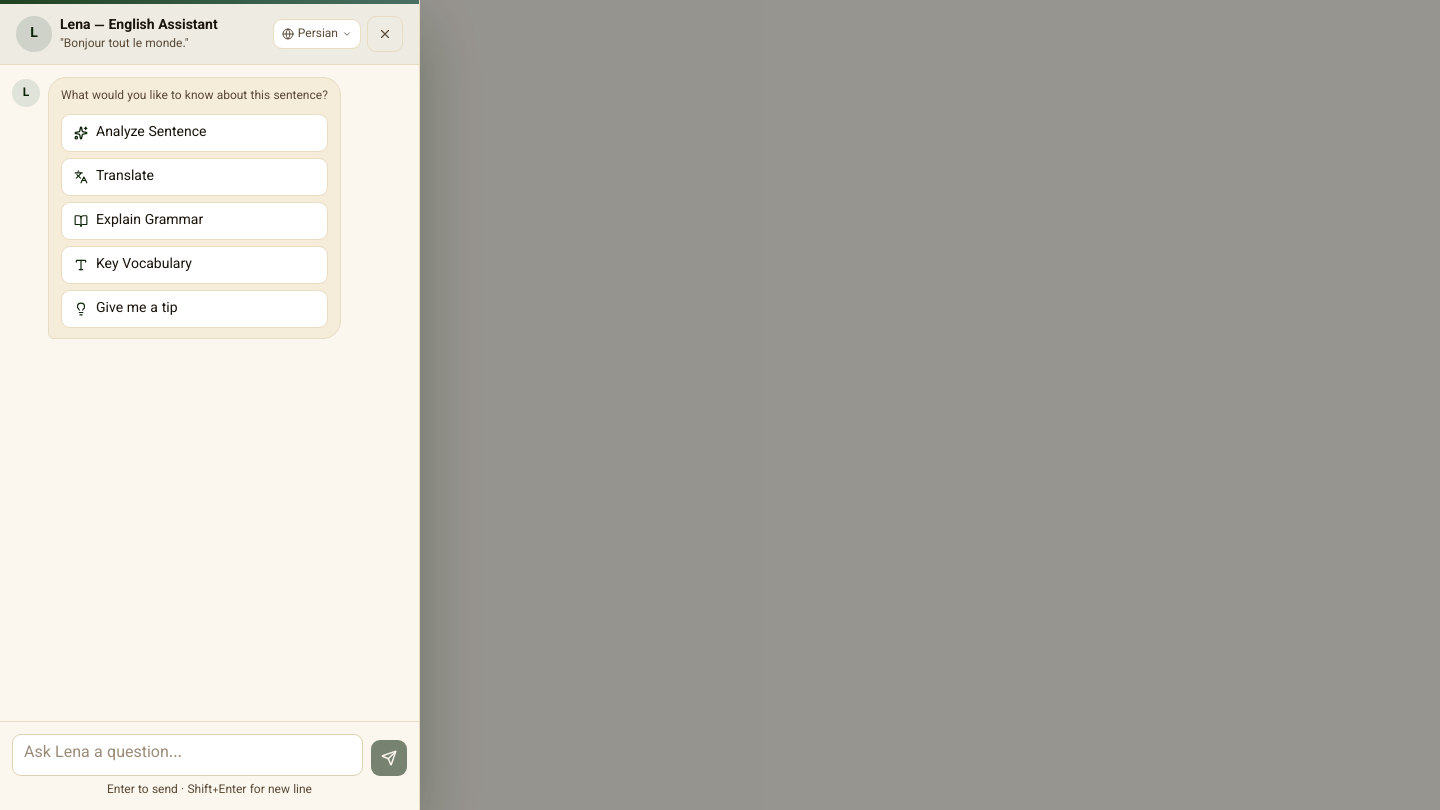
Test: sentence chat › a setup error from the model turns into the setup card, not raw text
Note: Lena's opening choices come once the conversation so far has been read.
Click the button "Translate" at x=125, y=177, box [61,158,328,196]
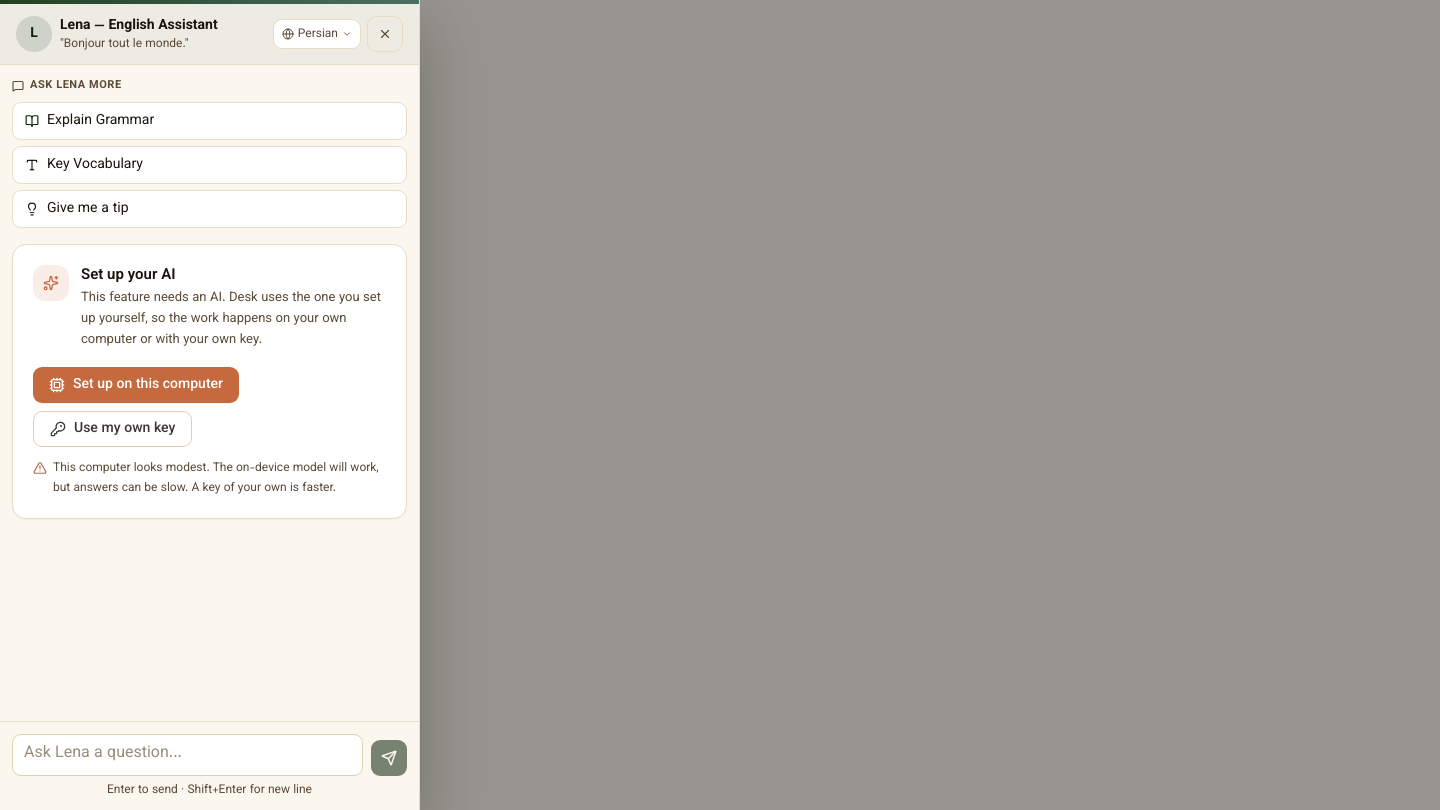
expect the heading "Set up your AI" is shown: met, box [81,264,176,287]
